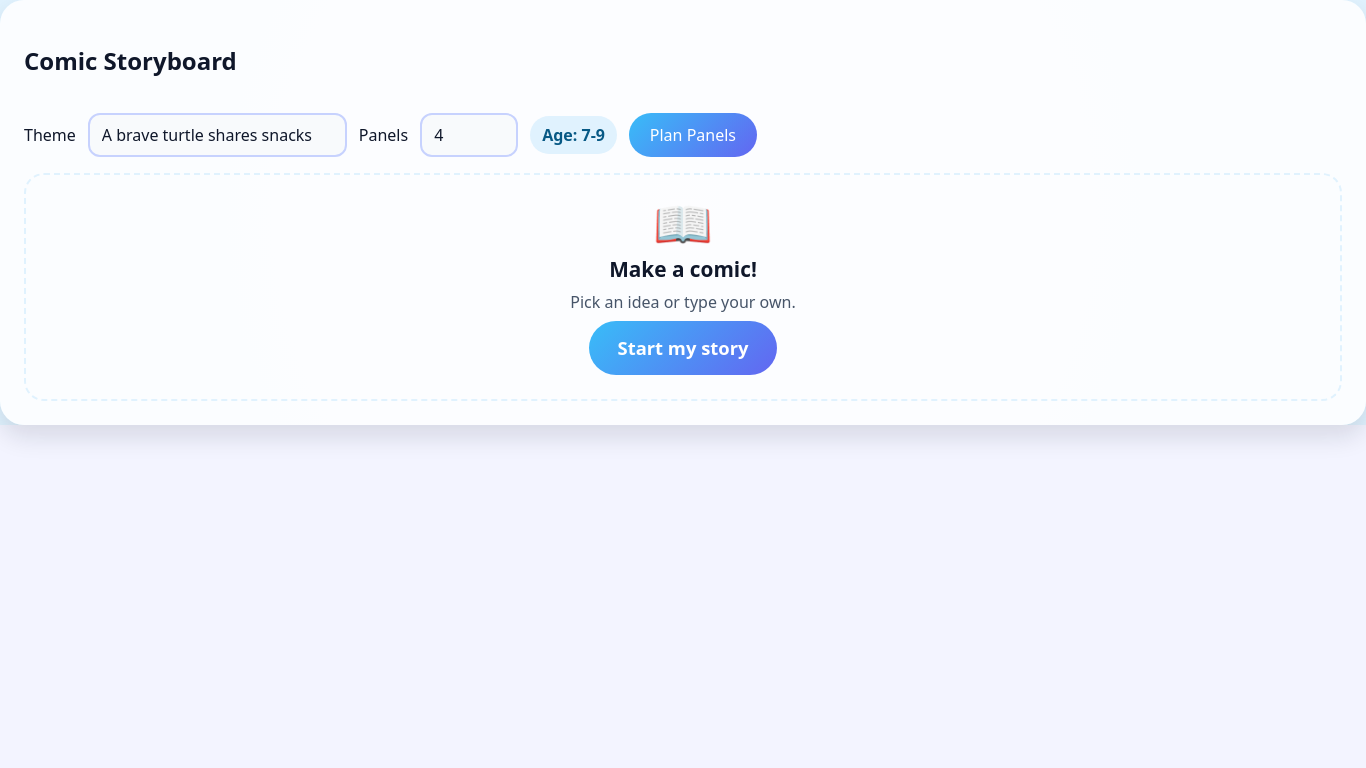
Test case: ComicBoard stale-state handling › clears previous panels when a later request fails
The image size is (1366, 768).
Click the button "Plan Panels" at (693, 135), box x1=629 y1=113 x2=757 y2=157
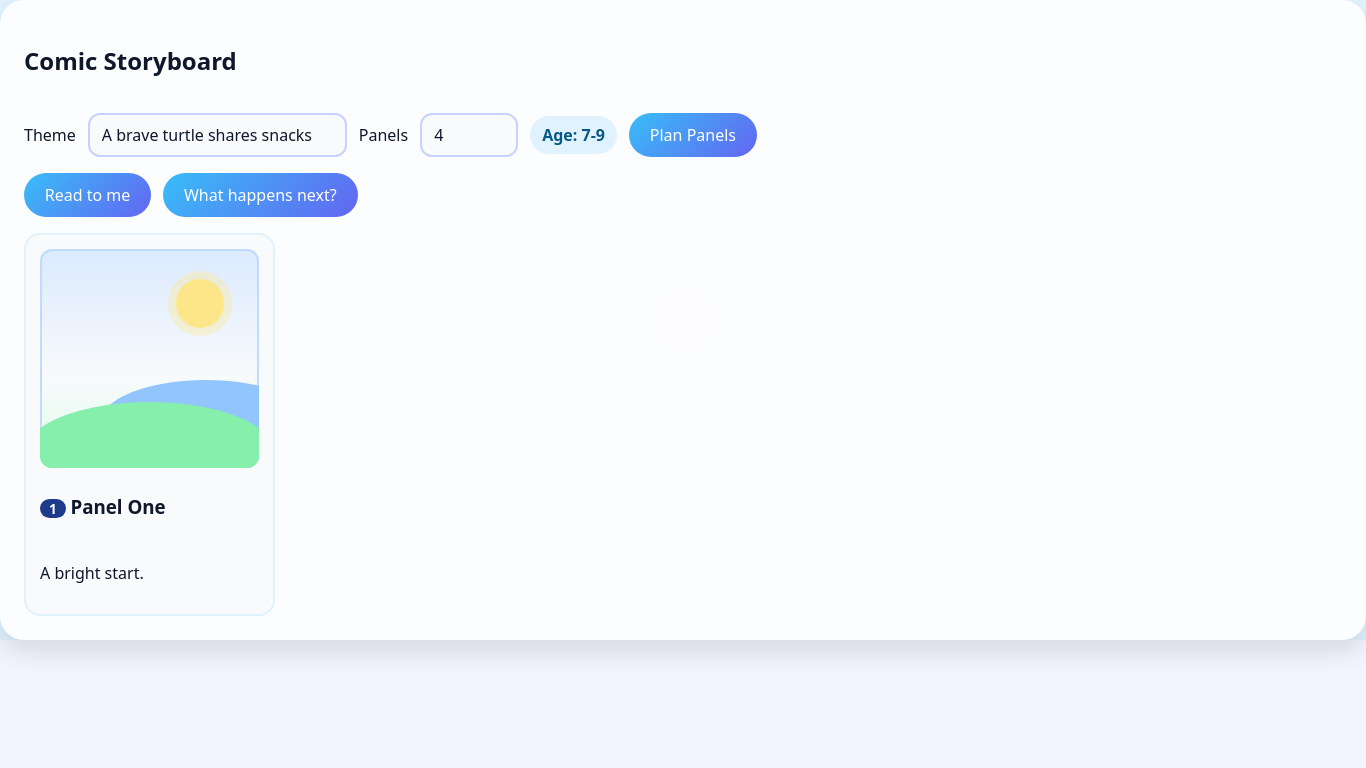
Now the heading "1 Panel One" is shown, box x1=40 y1=494 x2=166 y2=519
Click the button "Plan Panels" at (693, 135), box x1=629 y1=113 x2=757 y2=157
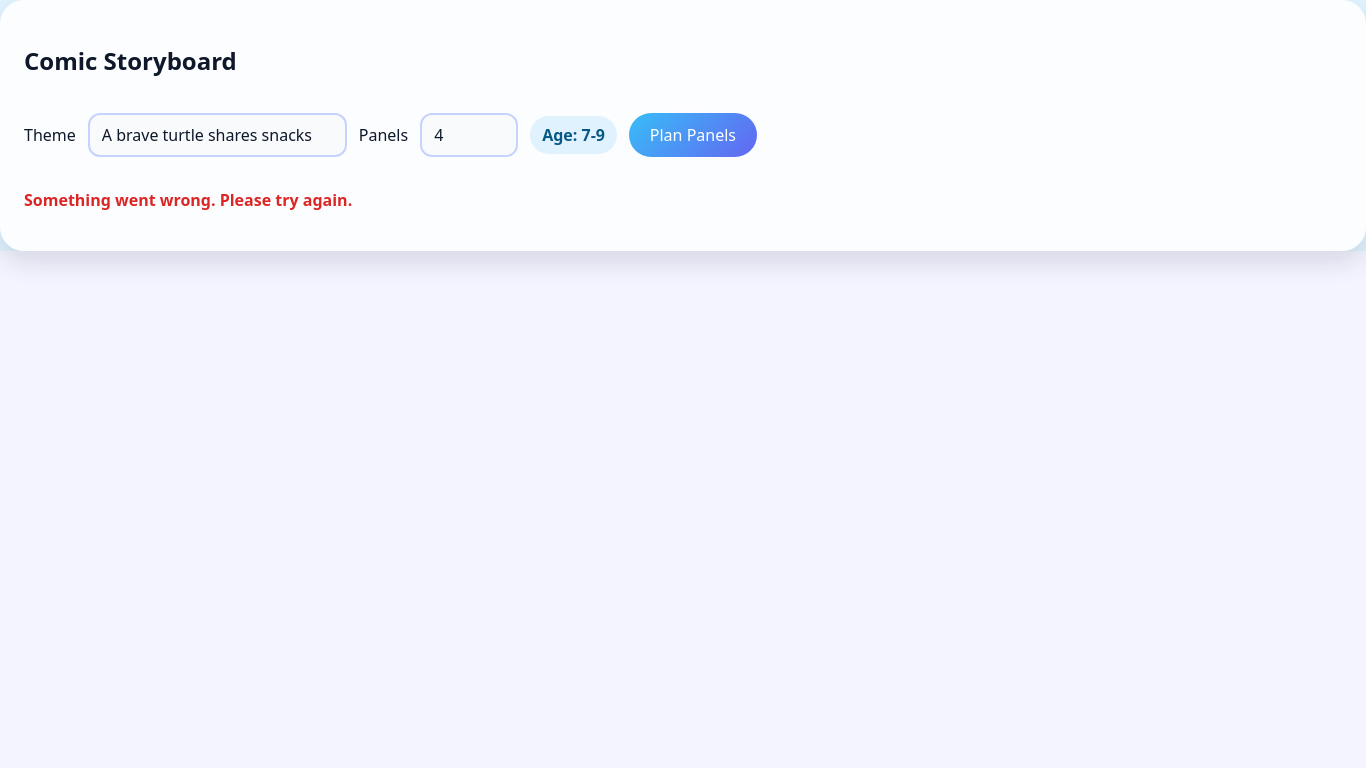
Now the heading "Panel One" is gone
